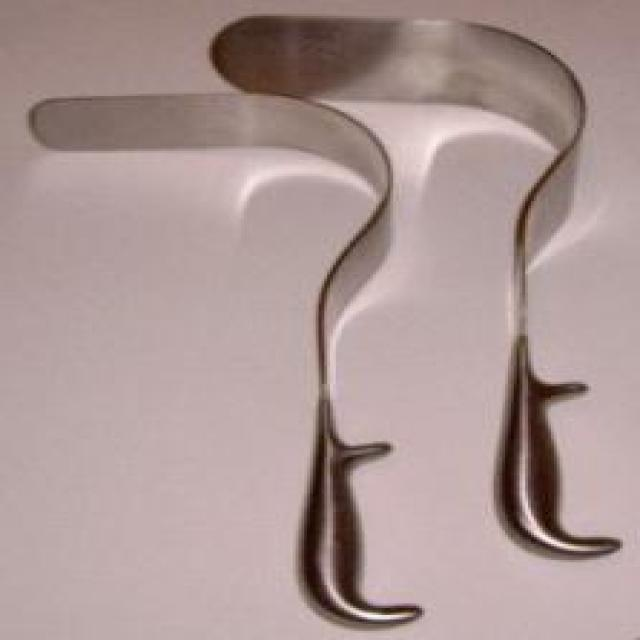Deaver Retractor: (21, 89, 437, 628), (210, 11, 618, 558)
